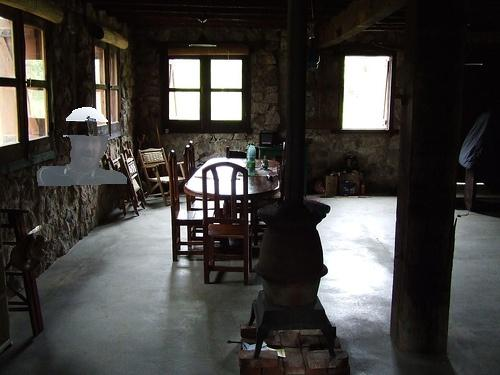tampered: (38, 108, 127, 186)
